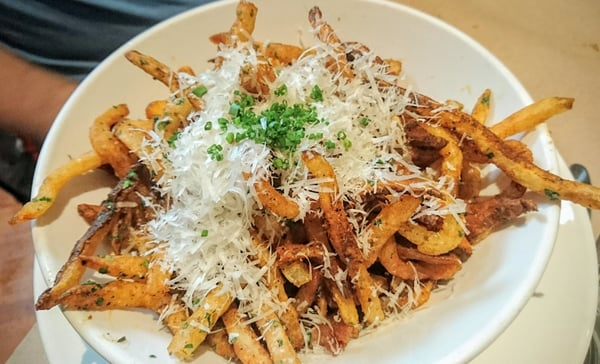sushi: (14, 0, 591, 360)
